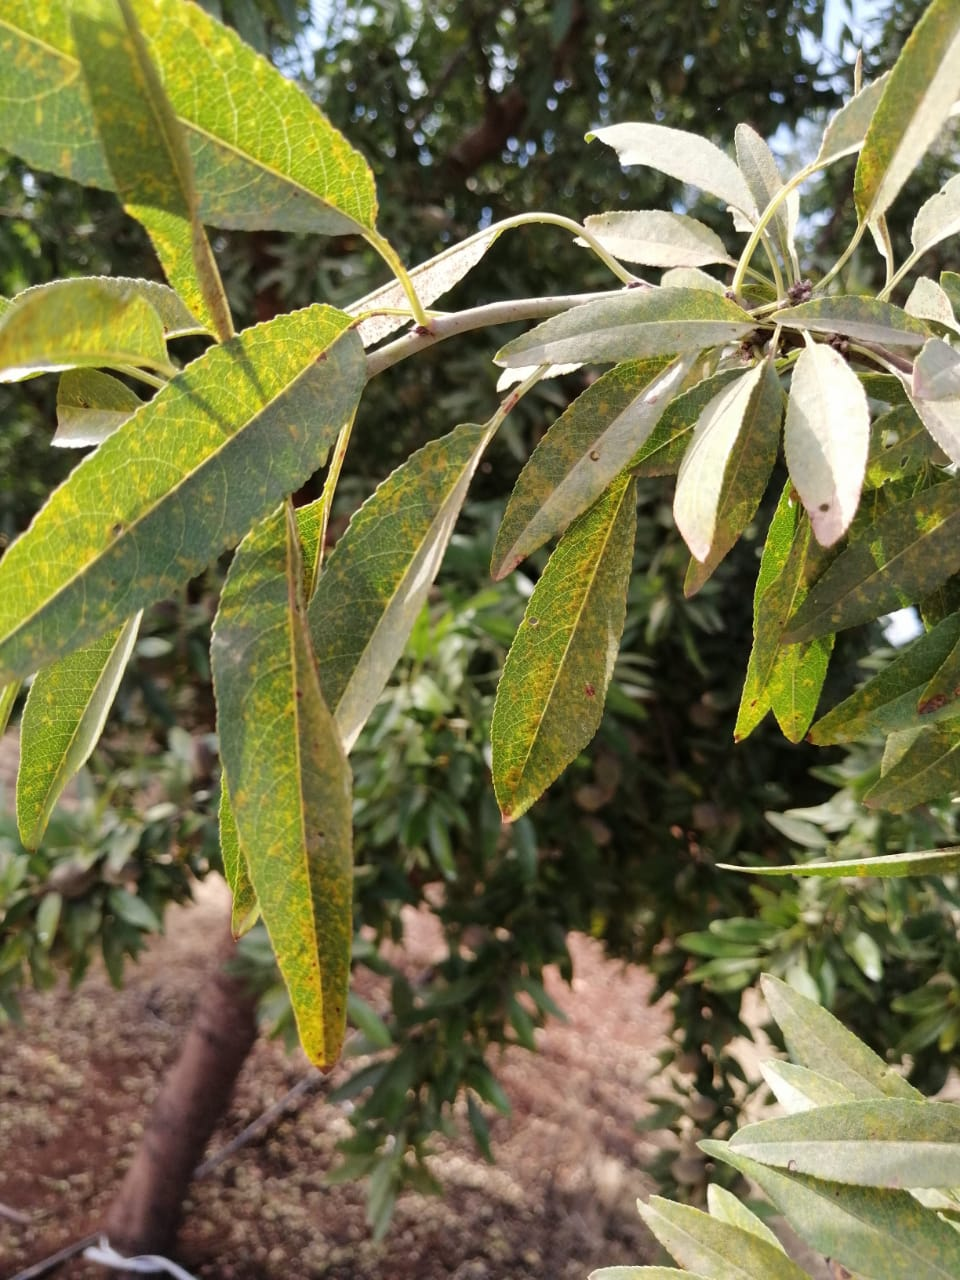rouille: (230, 388, 521, 944), (3, 302, 369, 688), (1, 1, 383, 241), (207, 506, 356, 1076), (490, 472, 640, 826), (490, 356, 687, 585), (775, 476, 956, 645), (751, 485, 842, 742), (783, 342, 875, 548), (48, 364, 148, 447), (714, 853, 953, 879)
